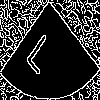L: (24, 25, 61, 77)
